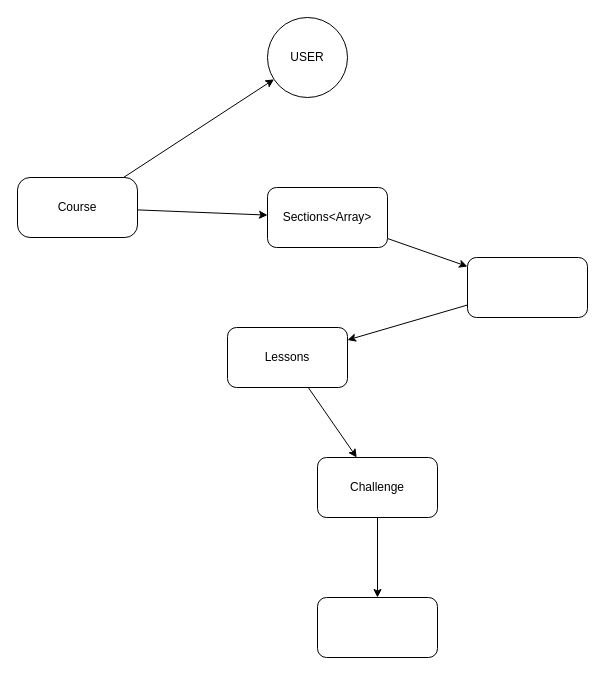
The diagram is 605 pixels wide and 675 high, and some of its shapes have lost their labels. Each missing label, with the box of its shape:
Option: (316, 596, 438, 658)
Units<Array>: (466, 256, 588, 318)
